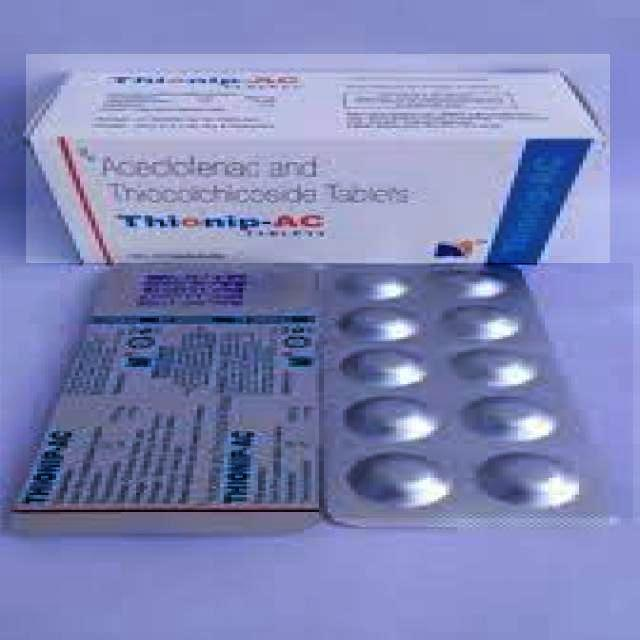authentic: (26, 54, 610, 273), (2, 263, 336, 537), (323, 263, 633, 518)
